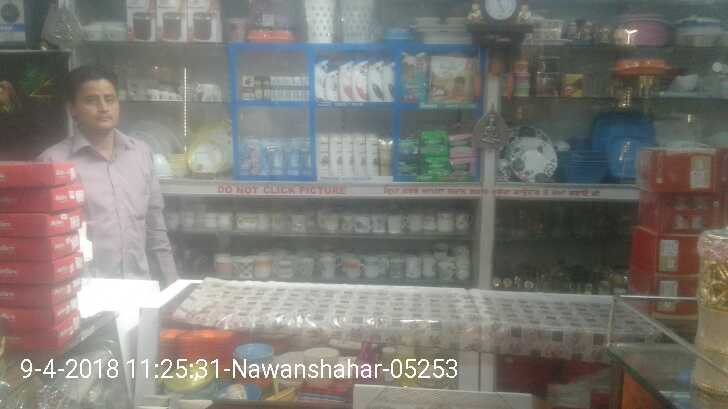venus: (240, 137, 258, 176), (283, 137, 303, 172), (262, 137, 280, 175)
